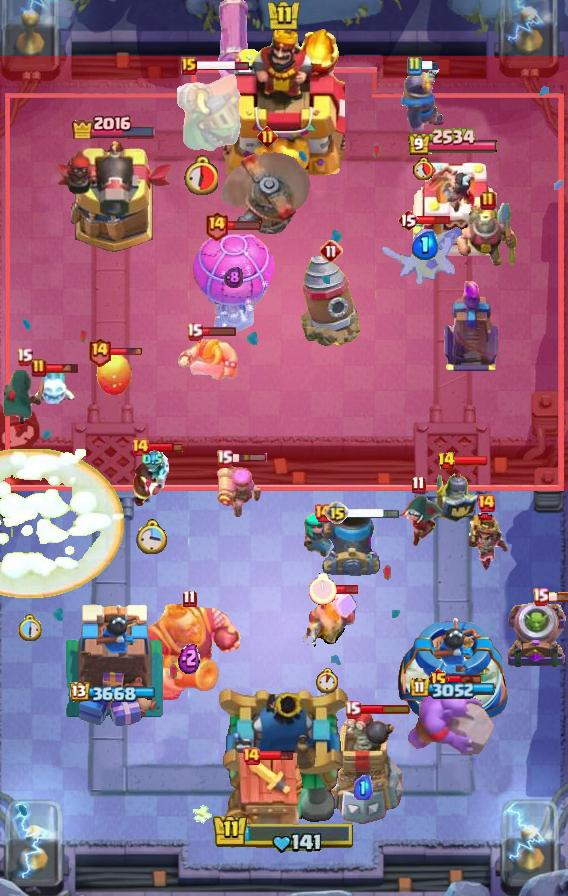archer-queen: (402, 678, 498, 758)
bandit: (455, 201, 521, 269)
bat: (32, 370, 76, 408)
battle-healer: (211, 0, 257, 104)
bomber-evolution: (463, 513, 509, 573)
cannon-cart: (189, 227, 277, 335)
clock: (212, 813, 356, 855)
dark-prince: (219, 152, 315, 234)
electro-spirit: (413, 232, 439, 261), (178, 642, 200, 674), (354, 775, 374, 800), (225, 266, 244, 290), (142, 451, 163, 469)
elixir: (183, 155, 218, 195), (136, 518, 168, 553), (309, 573, 337, 605), (18, 614, 43, 642), (316, 668, 341, 694), (413, 156, 433, 180)
emote: (194, 60, 249, 73), (347, 508, 401, 521), (357, 703, 410, 715), (258, 749, 294, 763), (232, 452, 269, 464), (44, 362, 80, 374), (453, 455, 489, 467), (447, 673, 483, 685), (417, 214, 452, 226), (149, 441, 184, 453), (200, 327, 237, 338), (226, 220, 262, 231), (325, 584, 360, 595), (109, 347, 143, 357), (546, 591, 568, 603), (420, 60, 439, 72)
firecracker: (402, 69, 446, 134)
giant-skeleton: (134, 601, 246, 703)
goblin-cage: (504, 600, 568, 670)
goblin-giant: (178, 334, 240, 382)
hog: (94, 353, 134, 397)
ice-spirit-evolution-symbol: (441, 281, 501, 373)
king-tower: (216, 684, 352, 826), (223, 27, 345, 181)
lumberjack: (129, 449, 175, 509)
magic-archer: (301, 253, 361, 347)
mighty-miner: (296, 588, 358, 654)
musketeer: (322, 512, 382, 576)
night-witch: (156, 69, 244, 153)
phoenix-big: (0, 449, 124, 598)
poison: (381, 222, 469, 296)
princess: (433, 466, 479, 524)
queen-tower: (61, 599, 166, 731), (395, 614, 514, 730), (409, 154, 497, 256)
selected: (407, 127, 499, 156), (71, 112, 157, 140), (70, 682, 158, 704), (410, 677, 496, 699)
sparky: (223, 752, 309, 850)
tesla: (391, 494, 445, 548), (0, 370, 48, 428)
text: (204, 210, 229, 241), (87, 336, 112, 367), (319, 239, 343, 263), (325, 501, 349, 525), (427, 667, 450, 691), (397, 208, 419, 232), (257, 126, 279, 147), (130, 437, 150, 457), (476, 493, 496, 513), (313, 503, 333, 523), (241, 746, 261, 766), (436, 451, 455, 471), (215, 449, 233, 468), (185, 323, 202, 342), (16, 346, 33, 365), (531, 587, 548, 606), (343, 701, 360, 720), (406, 56, 422, 76), (480, 191, 496, 211), (31, 358, 47, 378), (181, 57, 197, 75), (410, 475, 425, 494), (183, 589, 197, 608)
tombstone: (217, 461, 263, 519)
tower-bar: (53, 138, 175, 256)
witch: (301, 511, 345, 559)
zappy: (319, 710, 409, 826)
